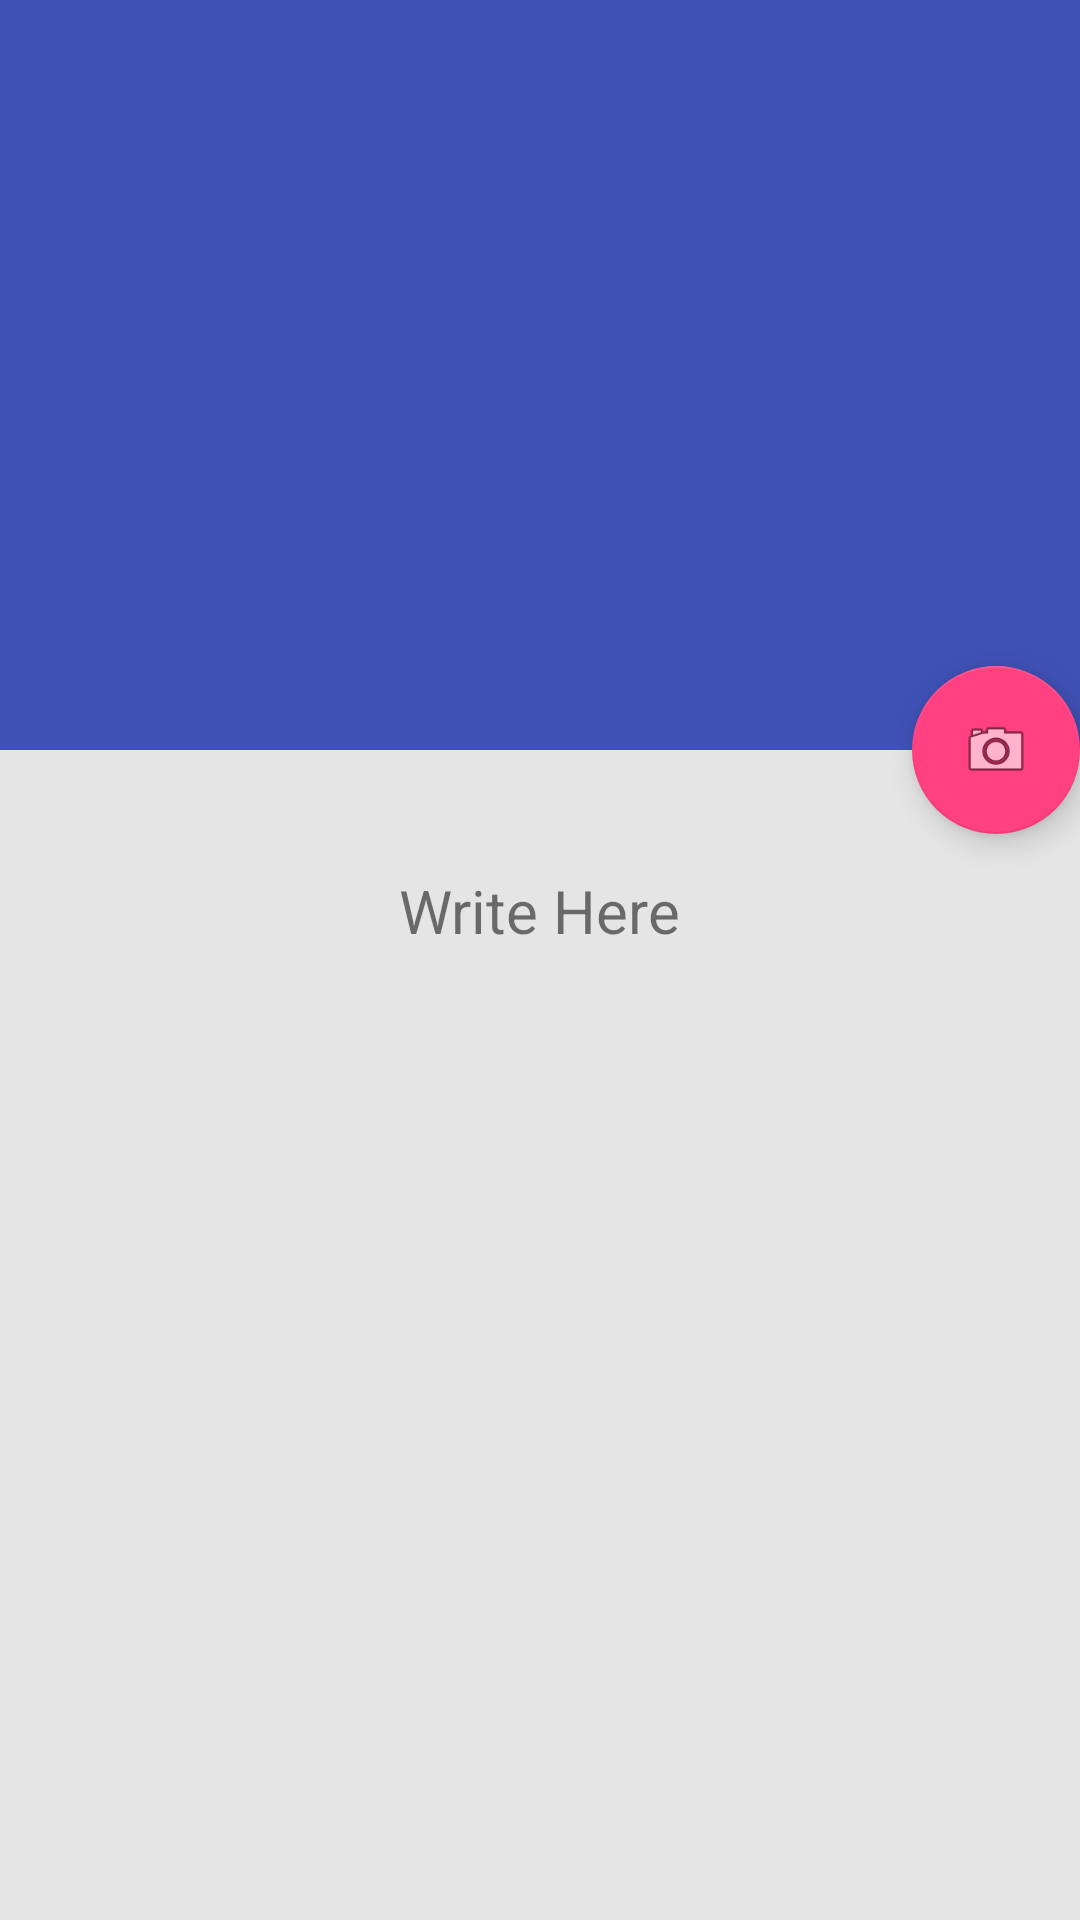

Icons on this 1080w x 1920h Android screen, each with the point to tap as (x=x, y=y):
camera: (x=996, y=750)
